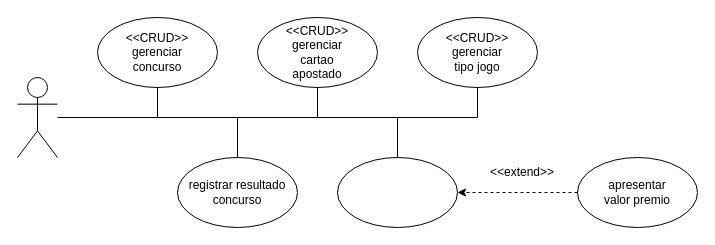
Some shapes in this 715 by 245 pixel diagram are drawn without their labels. The shapes that lost their labels are listed below. From the top down, each one's centre as x and y in pixels, then its label:
At point (37, 117): "Usuario".
At point (397, 192): "apresentar relatorio semanal".
